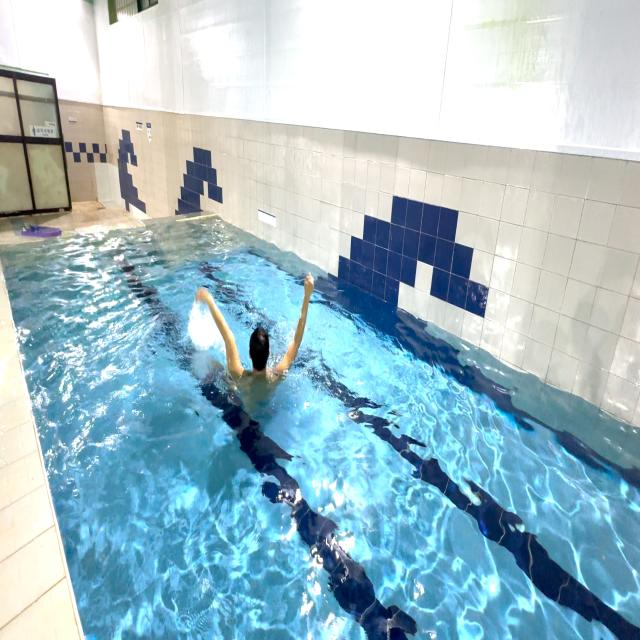Drowning: (184, 267, 329, 419)
